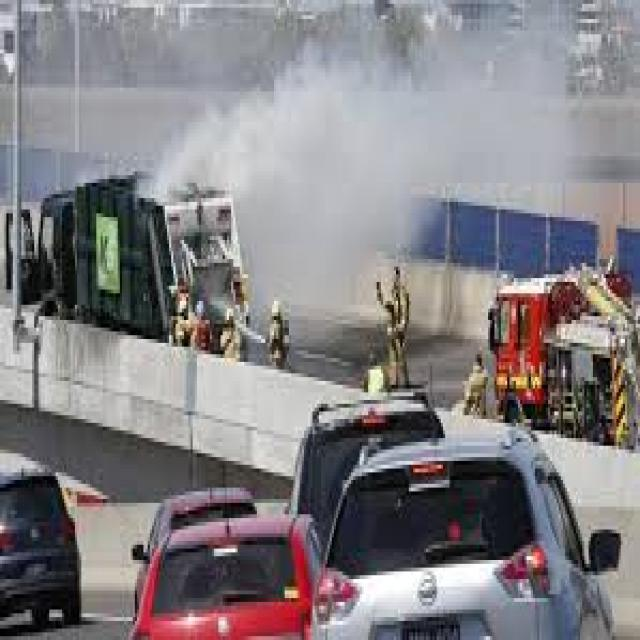Smoke: (22, 0, 640, 323)
